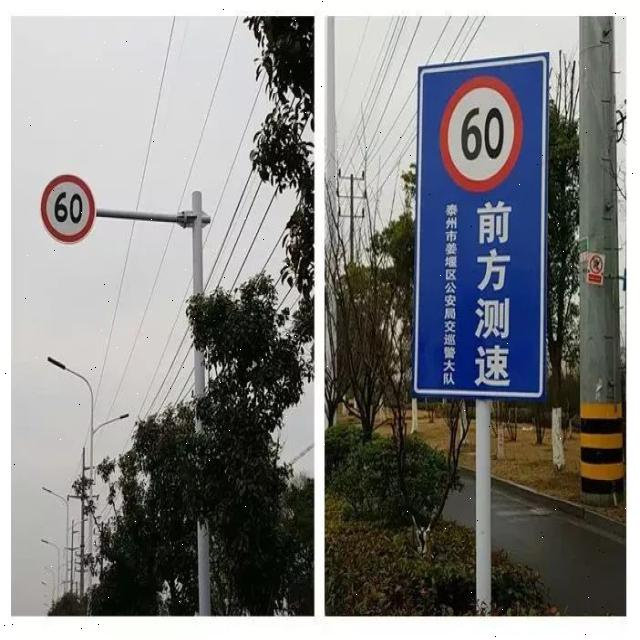speed limit 60: (437, 75, 521, 192), (40, 176, 95, 242)
